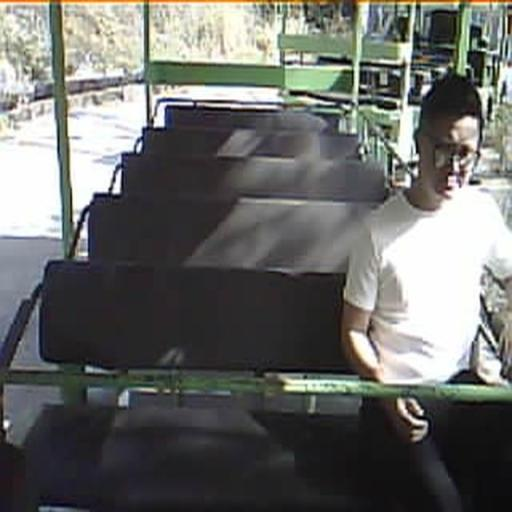persona: (339, 70, 511, 510)
